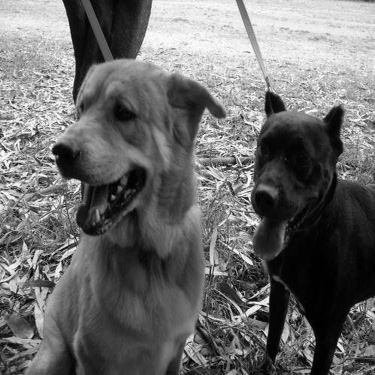dog: (15, 55, 227, 370), (234, 84, 371, 373)
